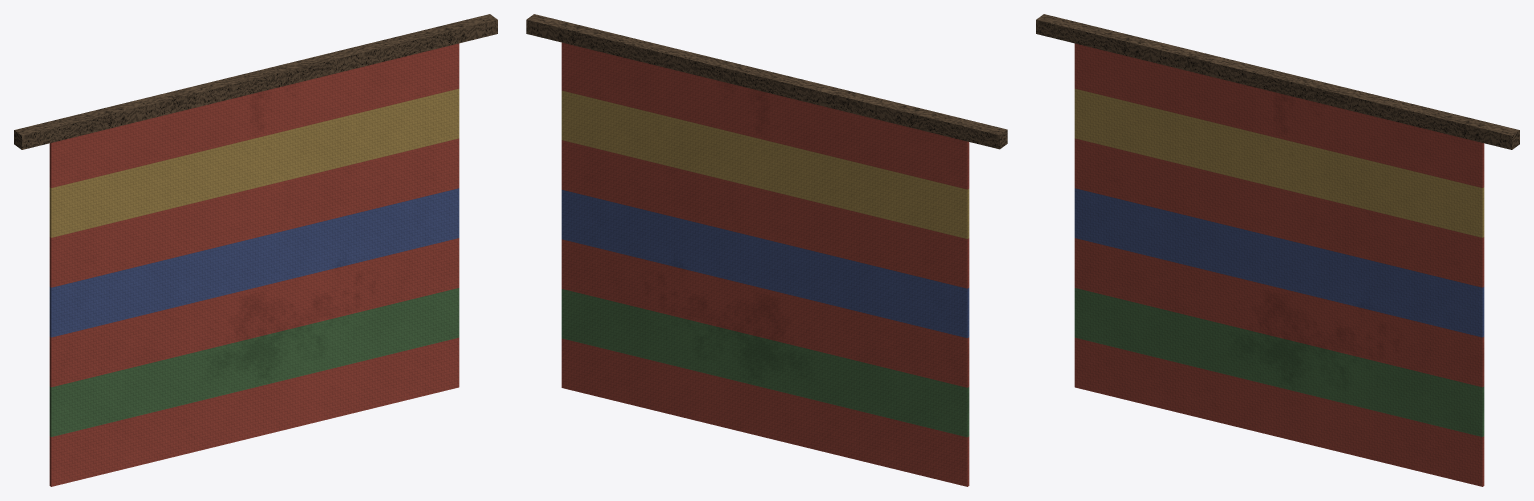
The model's file is wall_hanging.glb.
The picture shows the model from 3 angles, left to right: view 1: azimuth 30°, elevation 25°; view 2: azimuth 150°, elevation 25°; view 3: azimuth 330°, elevation 25°; orthographic projection.
Parts seen in each view (by area): view 1: wall_hanging; view 2: wall_hanging; view 3: wall_hanging.
Part boxes in pixels (x1,y1,x2,y2): wall_hanging: [14, 14, 497, 486]; wall_hanging: [526, 14, 1007, 486]; wall_hanging: [1036, 14, 1519, 486].
Bounding box in the file's own units: 1.4 × 1.02 × 0.04.
5 materials, 5 textured.
